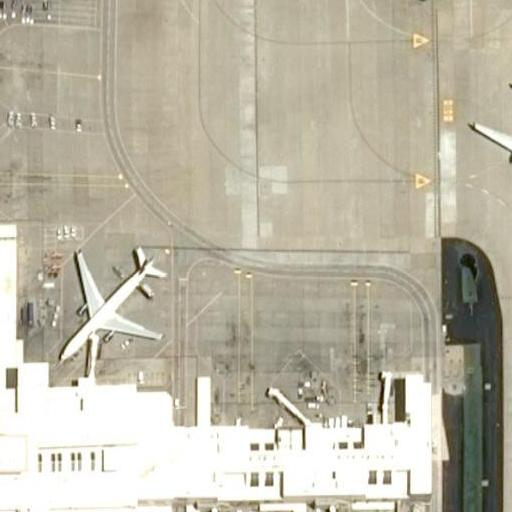Aircraft: (52, 245, 170, 361), (466, 68, 512, 203)
